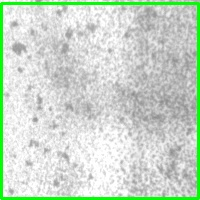pitted_surface: (1, 3, 198, 198)
